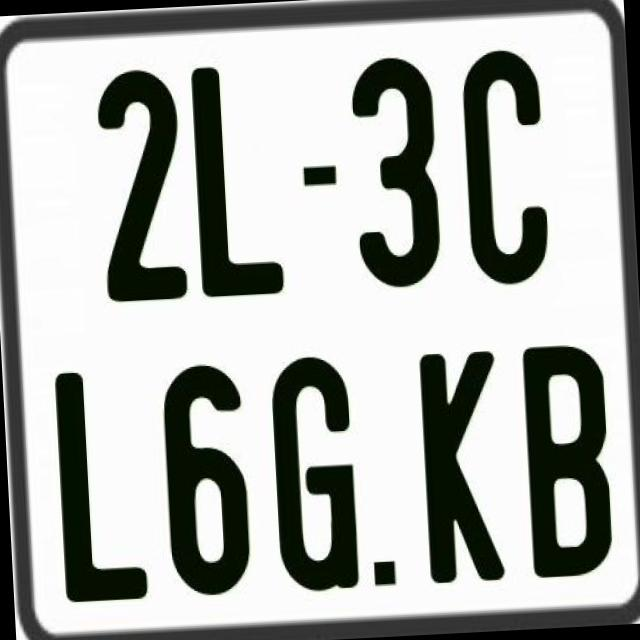2: (92, 66, 190, 304)
3: (350, 55, 442, 288)
6: (160, 364, 254, 598)
B: (519, 344, 613, 580)
C: (456, 45, 546, 282)
G: (270, 354, 362, 593)
K: (419, 346, 511, 578)
L: (189, 61, 289, 304), (51, 364, 150, 598)
